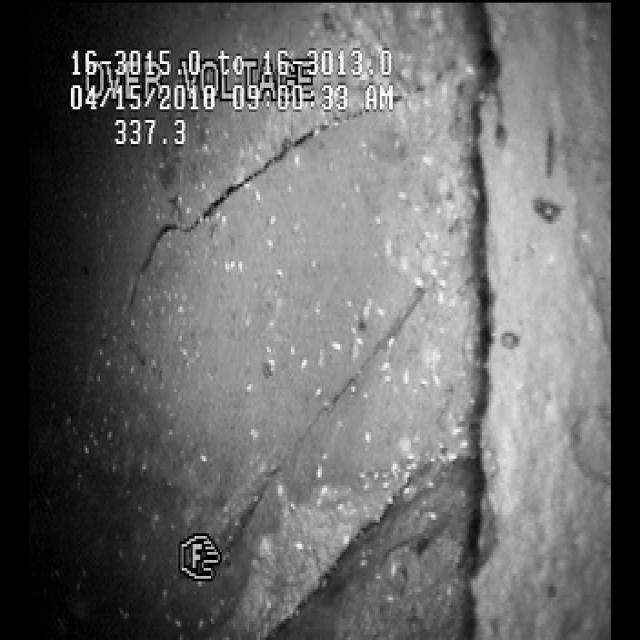Crack: (143, 124, 319, 284)
